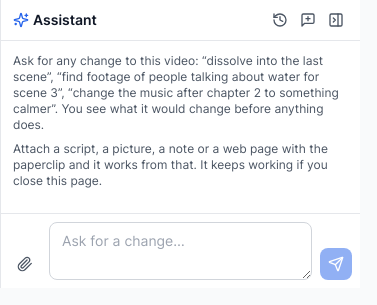
Test case: AssistantPanel › attaches a web page to a new conversation, lists it and removes it
This screenshot has width=377, height=305.
Click the button named "Attach". click: (25, 264)
box: [9,248,41,280]
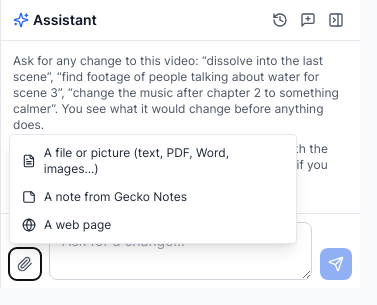
Click the menu item "A web page". click: (78, 224)
box: [14,211,292,239]
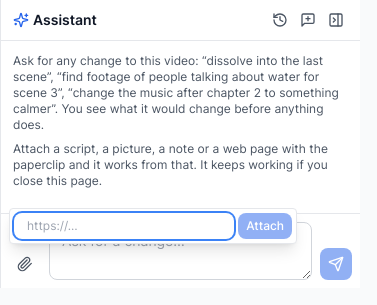
Type "news.example/river" into the field named "Web page address". click: (124, 226)
box: [14,213,234,239]
Then press Enter
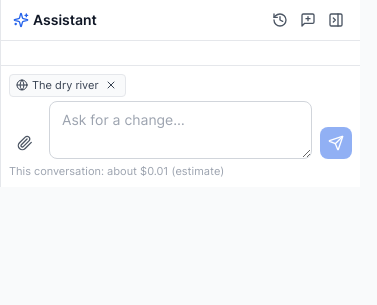
Expected: the text "The dry river" is shown, [32,77,98,94]
Click the button named "Remove The dry river". click: (110, 85)
box: [102,77,118,93]
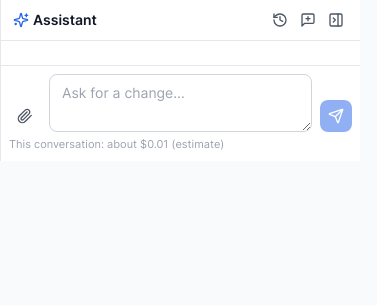
Expected: the text "The dry river" is gone
